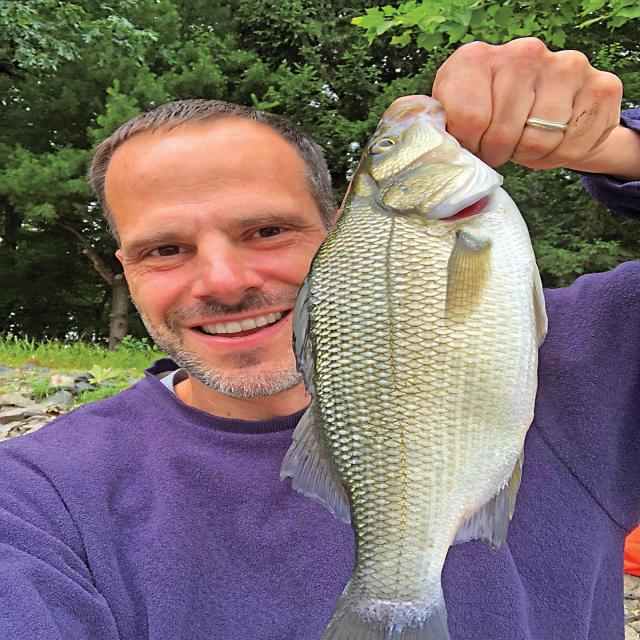Perch - White: (281, 99, 547, 639)
